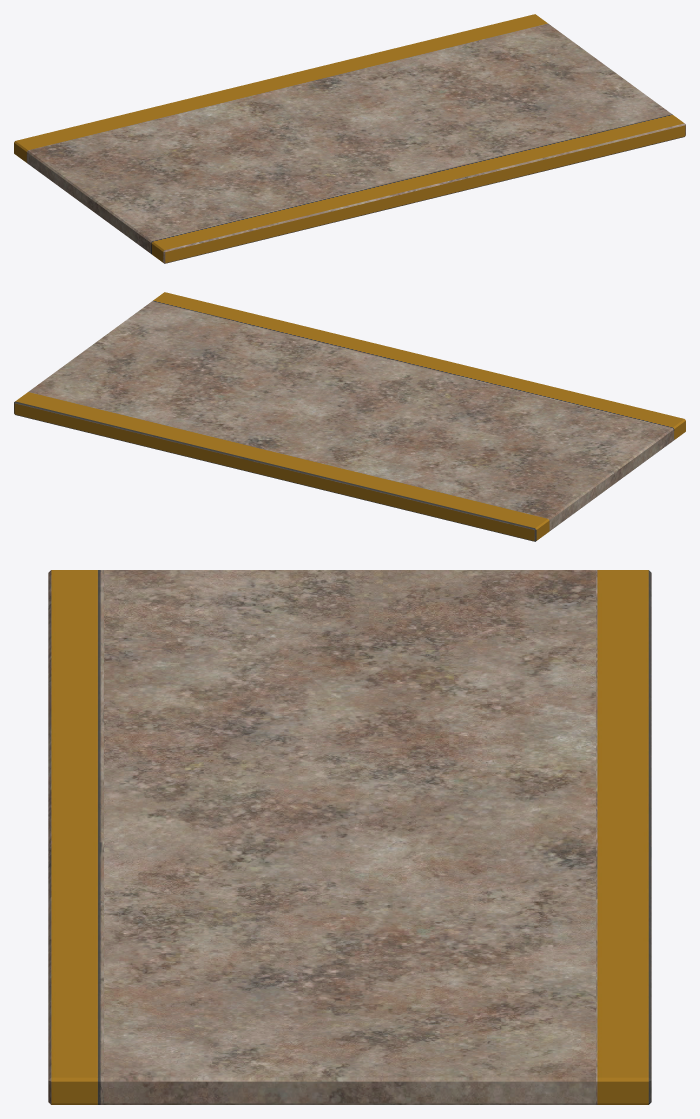
Rendered from SM_Floor4x2.gltf.
The picture shows the model from 3 angles, top to bottom: view 1: azimuth 30°, elevation 25°; view 2: azimuth 150°, elevation 25°; view 3: azimuth 270°, elevation 25°; orthographic projection. The views are drawn at different scales.
Visible parts, largest first — view 1: SM_WetHallProps_JFG_Floor_4x2_M_Trim_JFG_Rocks_Wet_0; view 2: SM_WetHallProps_JFG_Floor_4x2_M_Trim_JFG_Rocks_Wet_0; view 3: SM_WetHallProps_JFG_Floor_4x2_M_Trim_JFG_Rocks_Wet_0.
Part boxes in pixels (box(x1,y1,x2,y2)): SM_WetHallProps_JFG_Floor_4x2_M_Trim_JFG_Rocks_Wet_0: box(14, 14, 685, 263); SM_WetHallProps_JFG_Floor_4x2_M_Trim_JFG_Rocks_Wet_0: box(14, 292, 685, 541); SM_WetHallProps_JFG_Floor_4x2_M_Trim_JFG_Rocks_Wet_0: box(48, 570, 651, 1104).
Size of the model in its own units: 4 by 0.1 by 2.
1 material, 1 textured.
